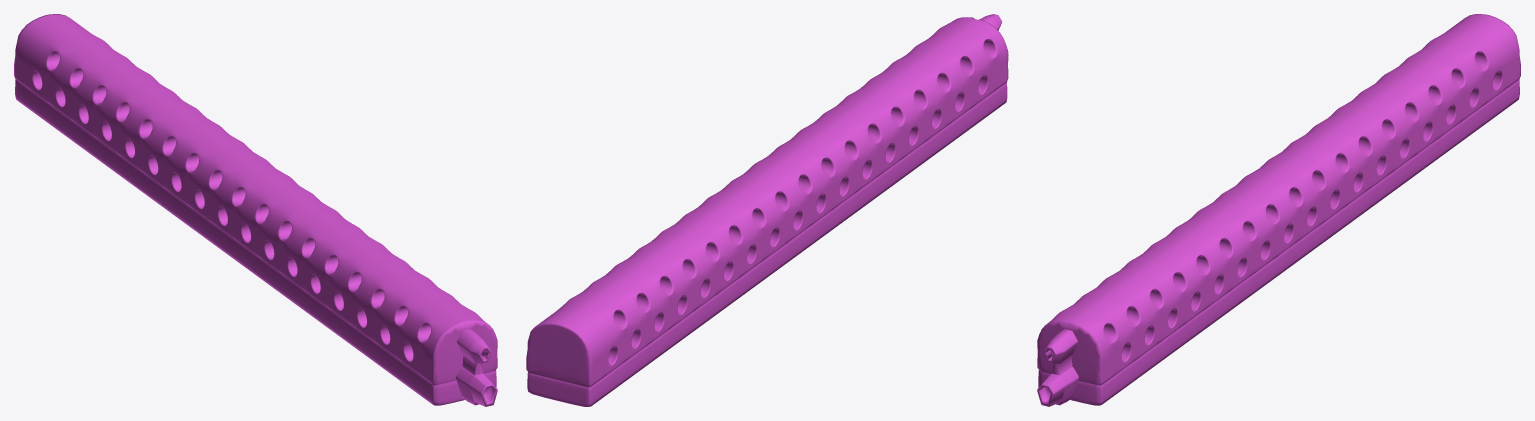
Rendered from part_barrel_02.fbx.
The picture shows the model from 3 angles, left to right: view 1: azimuth 30°, elevation 25°; view 2: azimuth 150°, elevation 25°; view 3: azimuth 330°, elevation 25°; orthographic projection.
Parts seen in each view (by area): view 1: part_barrel_02; view 2: part_barrel_02; view 3: part_barrel_02.
Part boxes in pixels (bbox=[...]): part_barrel_02: bbox=[14, 14, 497, 406]; part_barrel_02: bbox=[526, 14, 1008, 406]; part_barrel_02: bbox=[1037, 14, 1520, 406].
Bounding box in the file's own units: 6.04 × 7 × 72.24.
